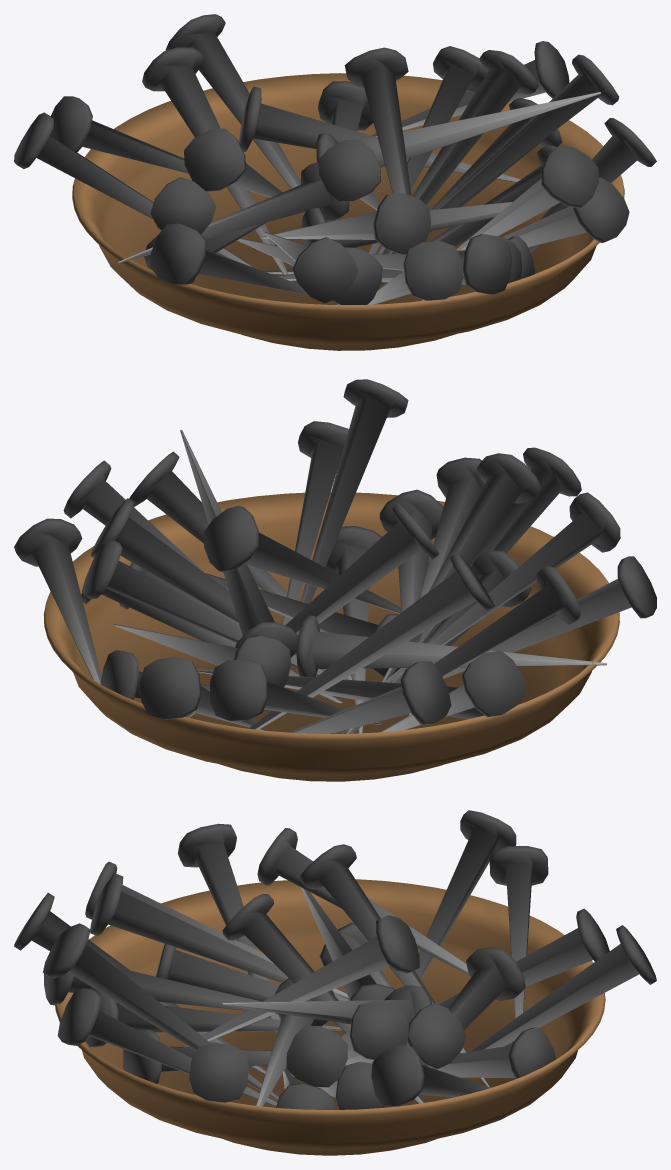
File: nails.gltf
The picture shows the model from 3 angles, top to bottom: view 1: azimuth 30°, elevation 25°; view 2: azimuth 150°, elevation 25°; view 3: azimuth 270°, elevation 25°; orthographic projection. The views are drawn at different scales.
Visible parts, largest first — view 1: nails, plate; view 2: nails, plate; view 3: nails, plate.
Boxes of the visible parts, x1,y1,x2,y2 form: nails: [14, 14, 656, 304]; plate: [72, 73, 624, 350]; nails: [14, 379, 656, 733]; plate: [43, 492, 619, 781]; nails: [14, 810, 656, 1109]; plate: [55, 879, 605, 1155].
Size of what is drawn, in the model's own units: 0.585 by 0.2289 by 0.6322.
1 material, 1 textured.
